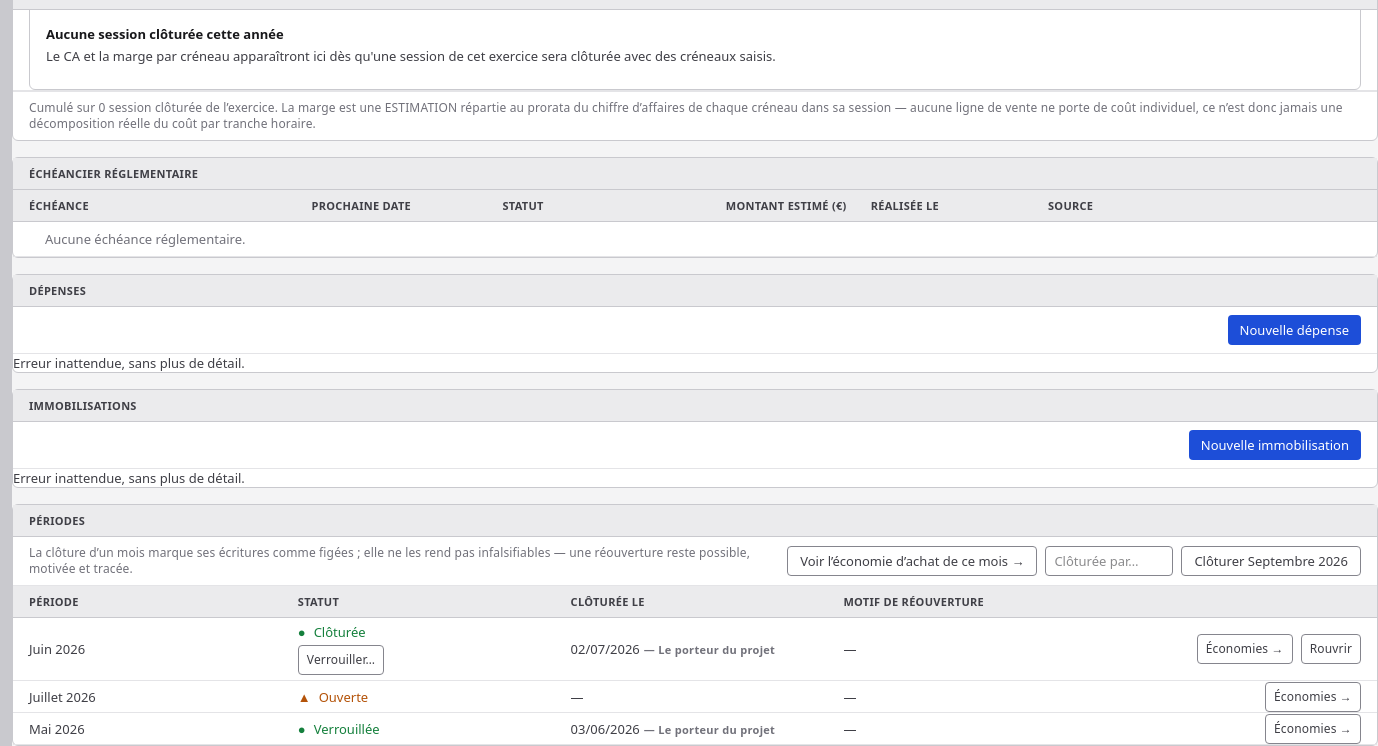
Comptabilité — le verrou définitif ne se pose jamais par accident › le bouton final reste inerte tant que la recopie n’est pas EXACTE, puis s’active
The image size is (1378, 746).
(page scrolled)
Click the button "Verrouiller…". click: (341, 660)
box: [298, 645, 384, 675]
(page scrolled)
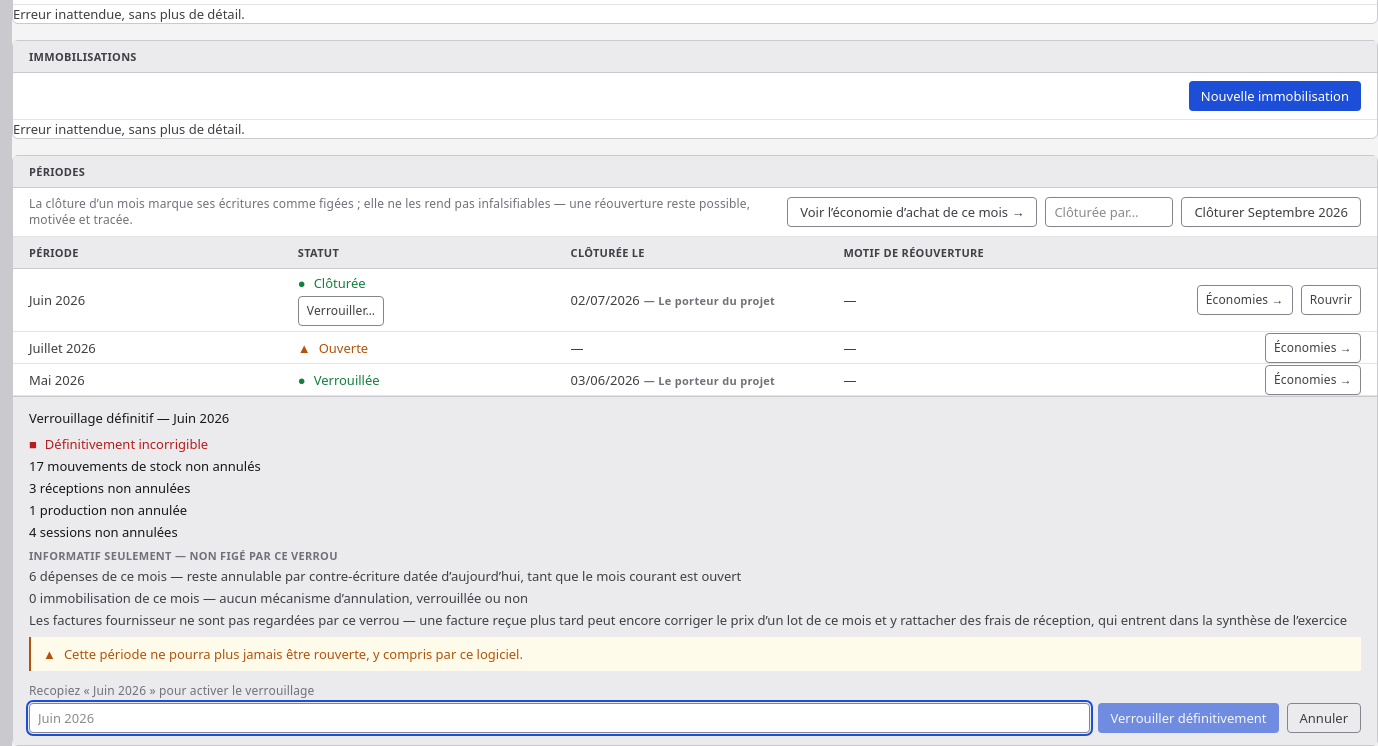
Expected: the text "Verrouillage définitif — Juin 2026" is shown, [29, 409, 229, 427]
Expected: the button "Verrouiller définitivement" is disabled, [1098, 703, 1278, 733]
Type "juin 2026" into the field with placeholder "Juin 2026". click: (560, 718)
box: [29, 703, 1090, 733]
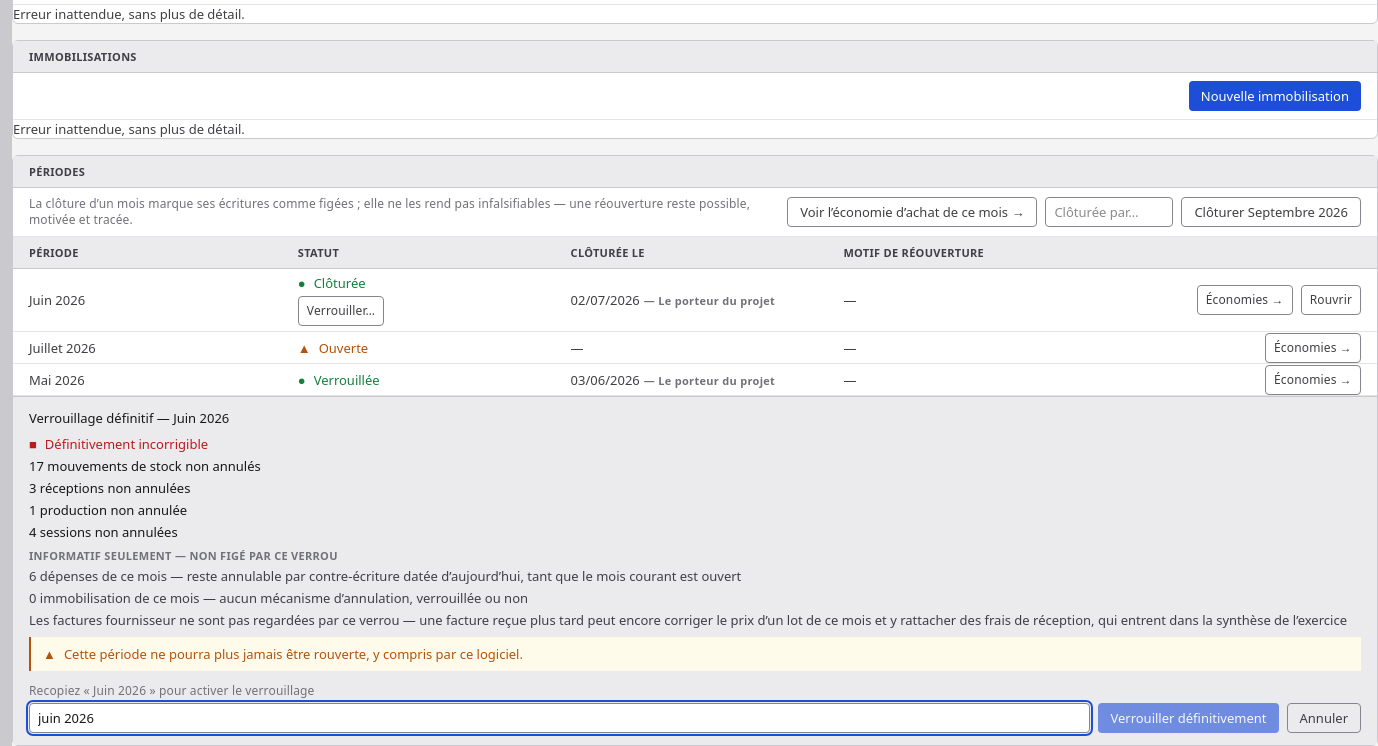
Expected: the button "Verrouiller définitivement" is disabled, [1098, 703, 1278, 733]
Replace the text in the field named "Recopier « Juin 2026 » pour confirmer le verrouillage défini" with "Juin 2026". click: (560, 718)
box: [29, 703, 1090, 733]
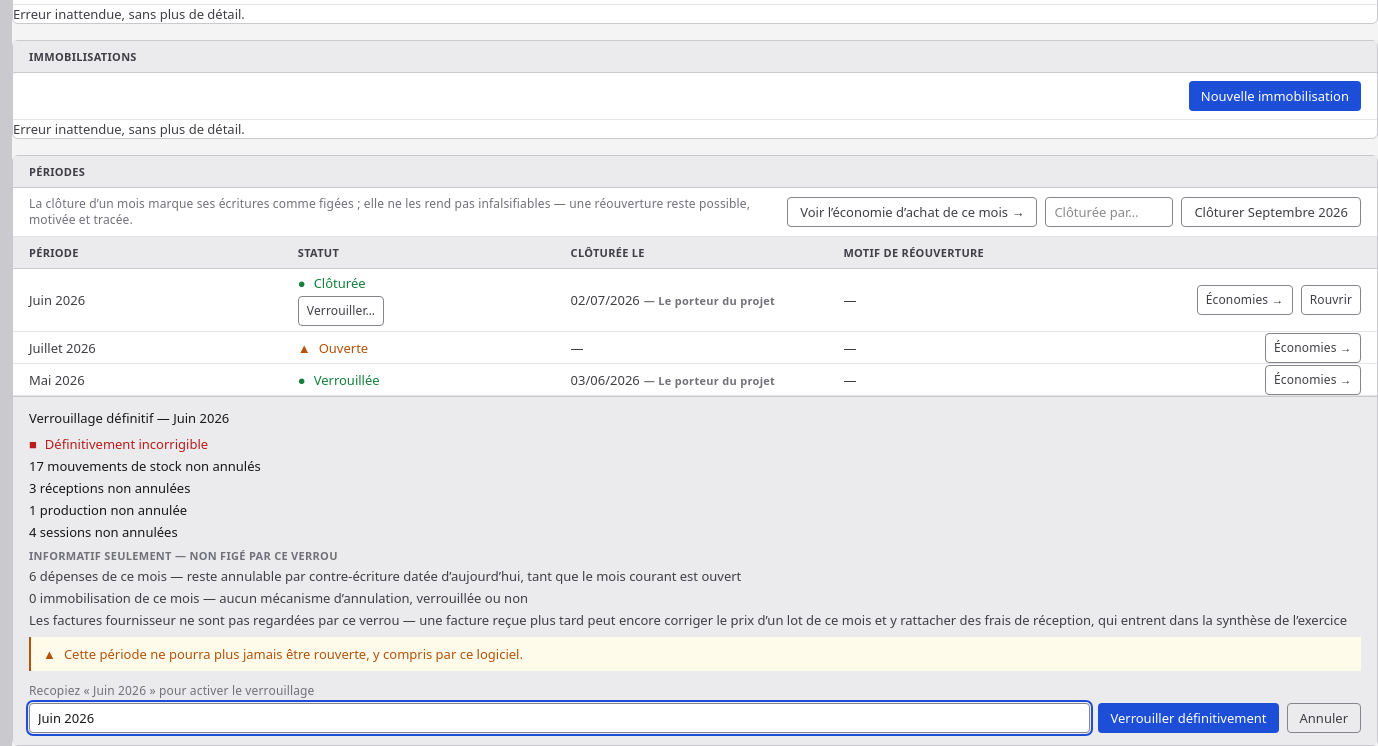
Expected: the button "Verrouiller définitivement" is enabled, [1098, 703, 1278, 733]
